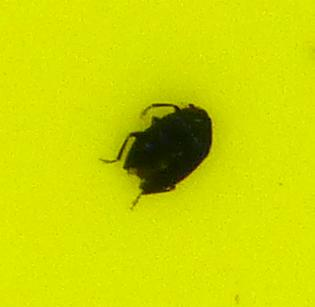Coleoptera: (100, 100, 215, 207)
